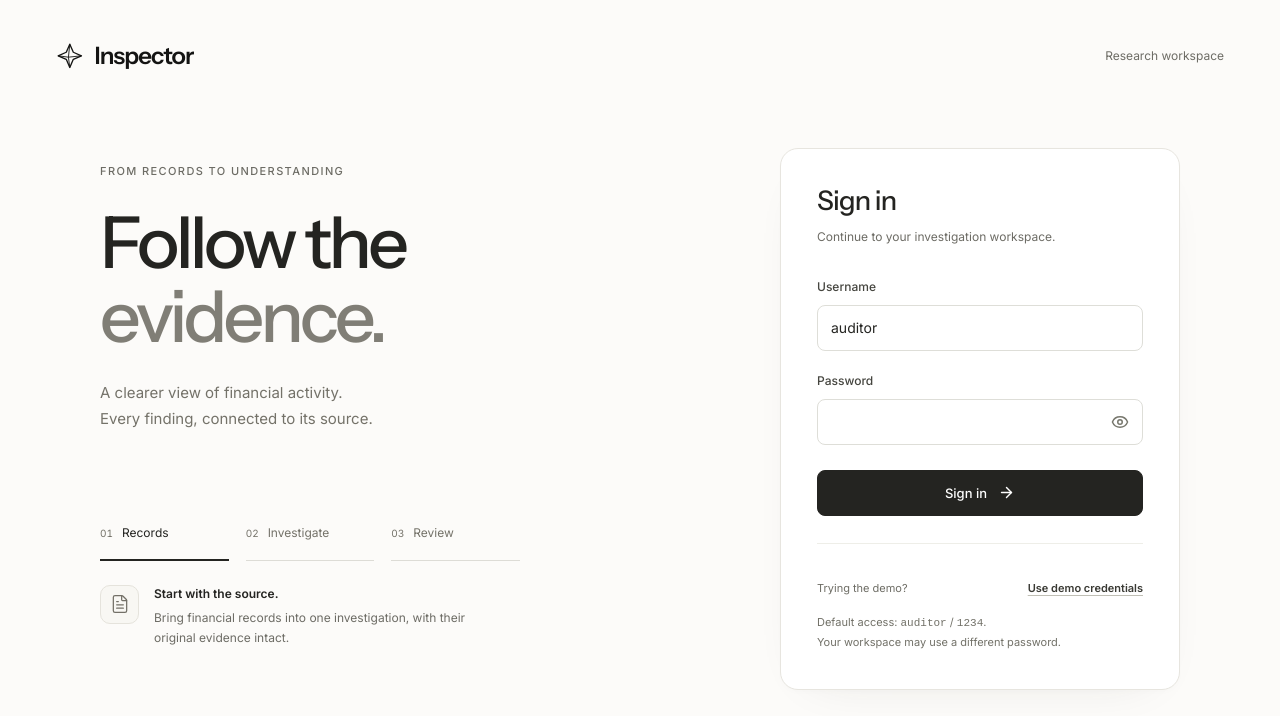
Test case: DemoLogin › shows a truthful English error for status 503 / sesion_no_configurada
Type "1234" into the password field labelled "Password" at coordinates (980, 422), box top-left (817, 399), bottom-right (1143, 445)
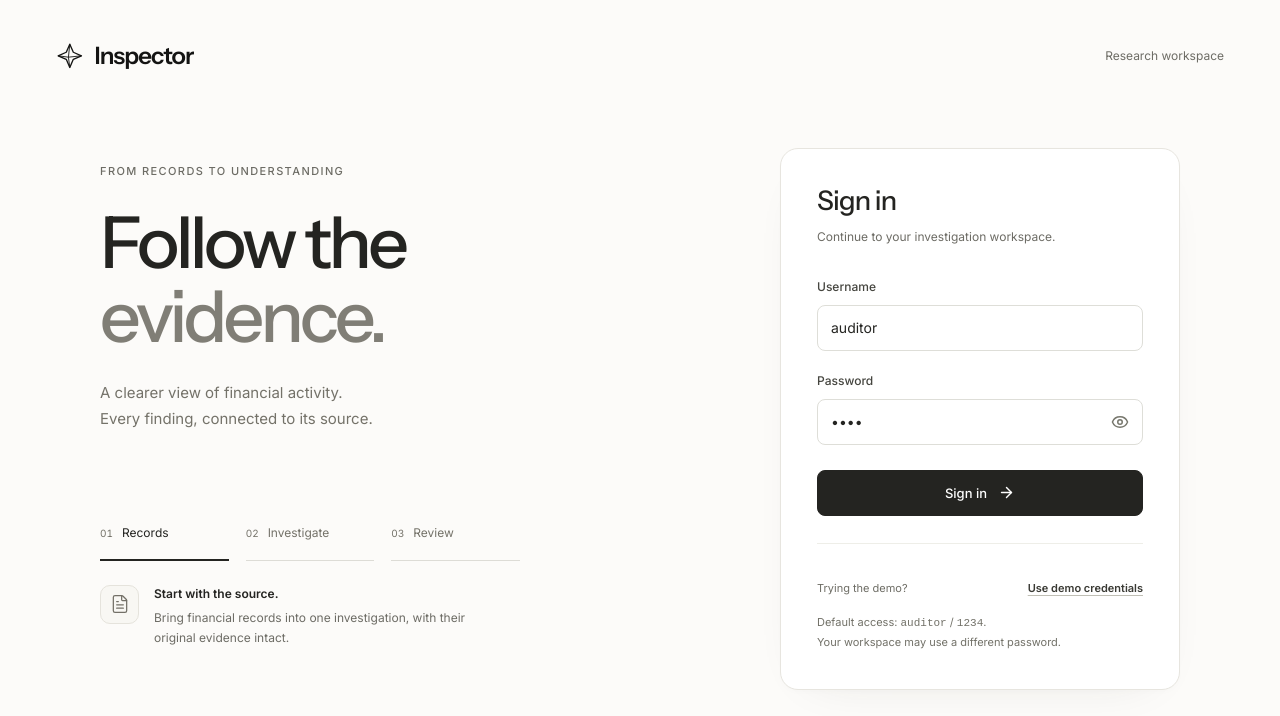
Submit the form "Sign in", box top-left (817, 277), bottom-right (1143, 516)
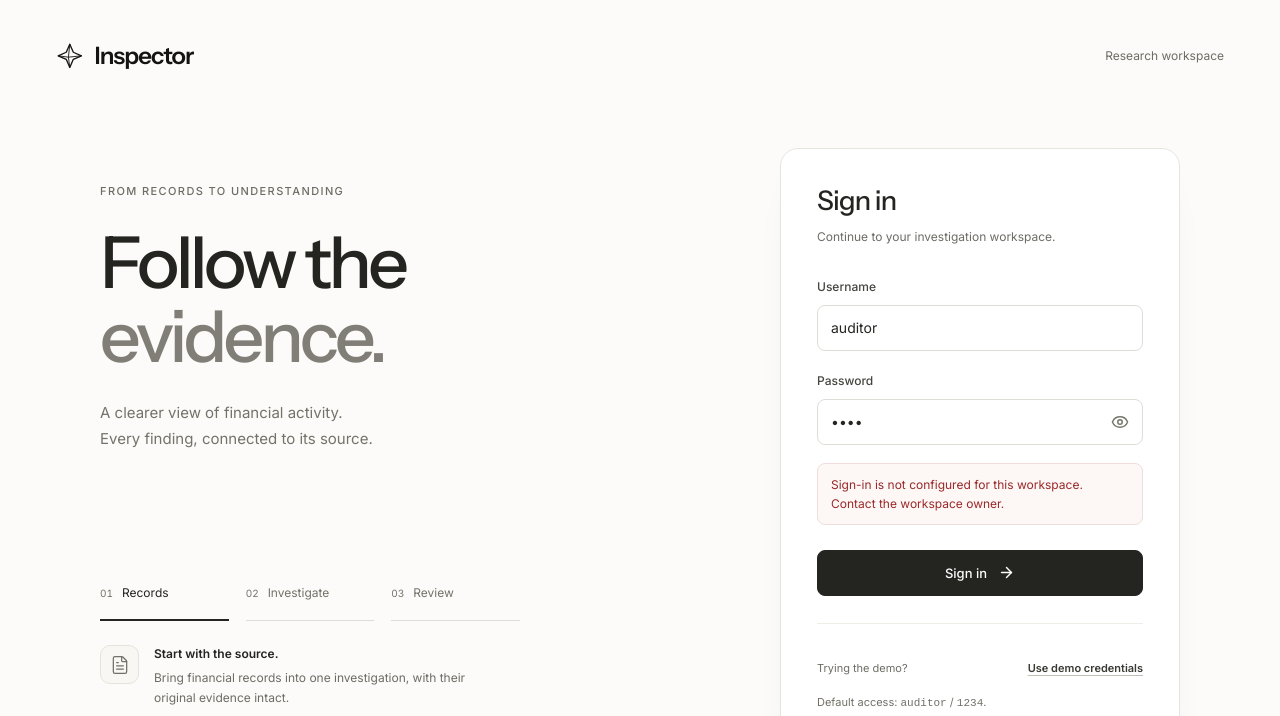
expect the button "Sign in" is enabled: met, box top-left (817, 550), bottom-right (1143, 596)
expect the message shows "Sign-in is not configured for this workspace.": met, box top-left (831, 477), bottom-right (1083, 511)
